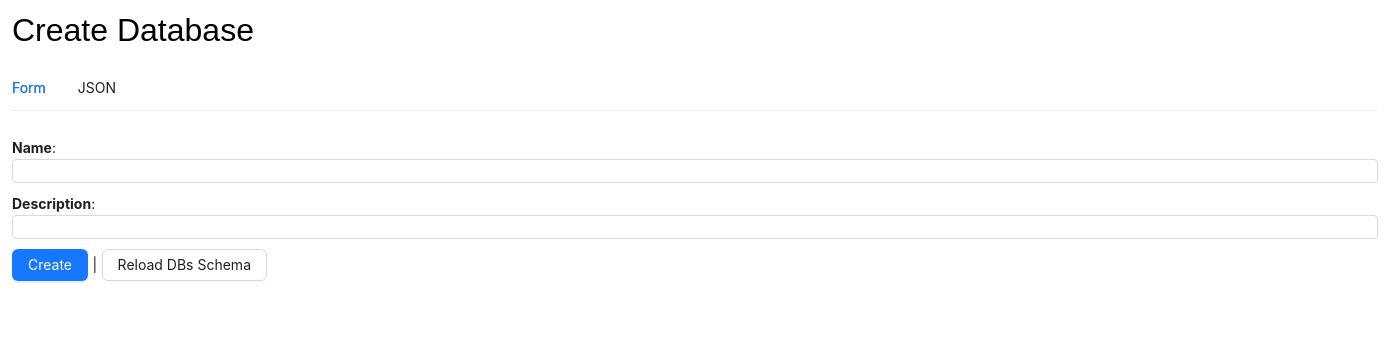
Scenario: CreateDbPage › shows an error alert when creation fails
The width and height of the screenshot is (1390, 340).
Click the button "Create". click: {"x": 50, "y": 265}
box: [12,249,88,281]
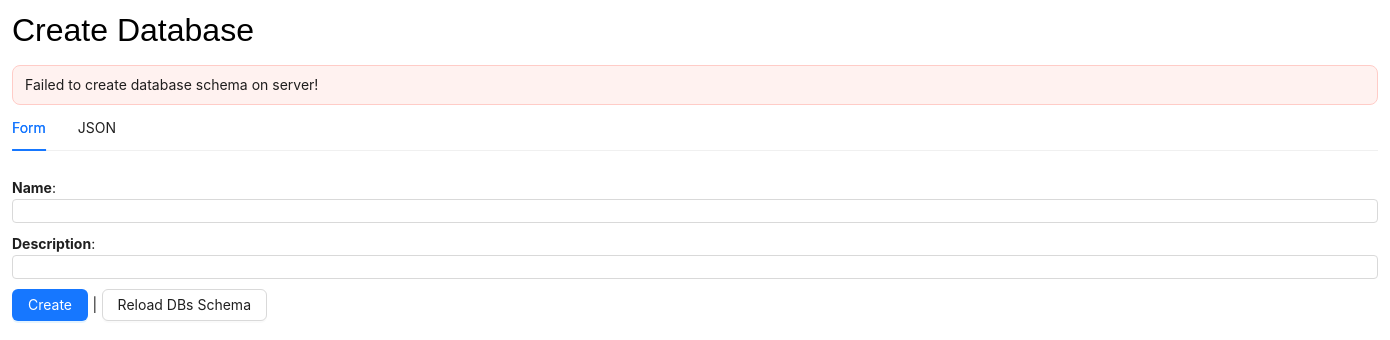
Check: the text "Failed to create database schema on server!" is shown, box [25,76,318,93]
